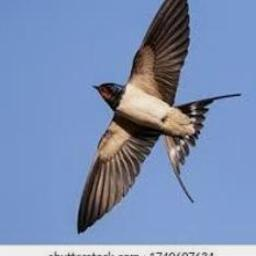Swallow: (77, 0, 242, 235)
